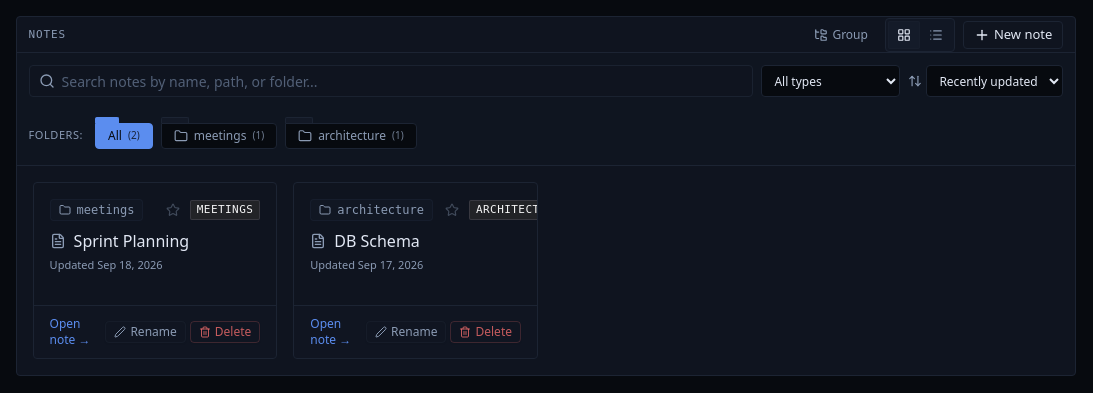
Test case: VaultNotesPage › shows empty PanelState with clear filters action when no notes match filters
The image size is (1093, 393).
Expected: the link "Sprint Planning" is shown, [50,230,189,252]
Type "Nonexistent note" into the field labelled "Search notes".
click(391, 81); type("Nonexistent note")  # box [29,65,753,97]
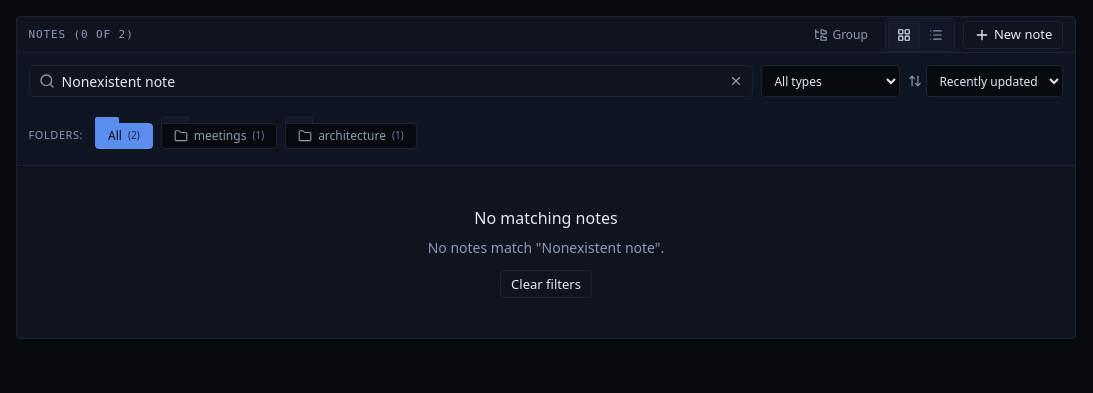
Now the text "No matching notes" is shown, box [474,206,618,230]
Now the text "No notes match \"Nonexistent note\"." is shown, box [428,238,664,258]
Now the button "Clear filters" is shown
Click the button "Clear filters".
click(546, 284)  # box [500,270,592,298]
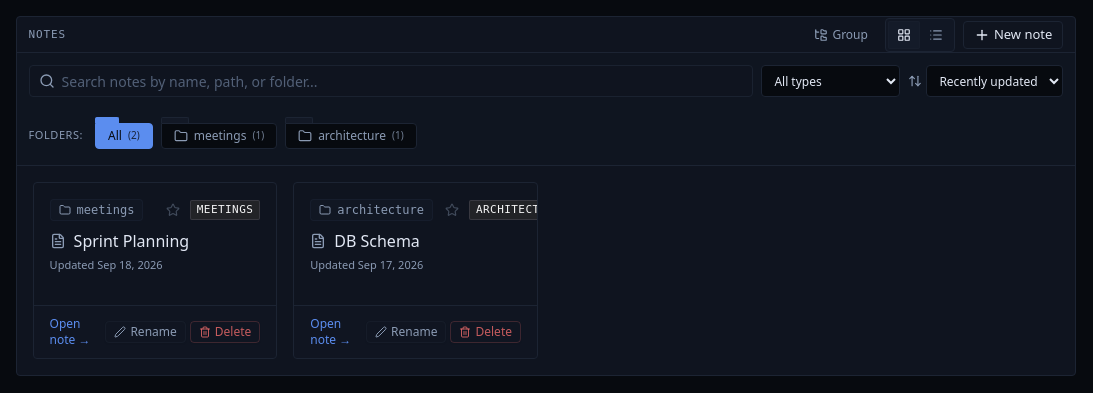
Now the link "Sprint Planning" is shown, box [50,230,189,252]
